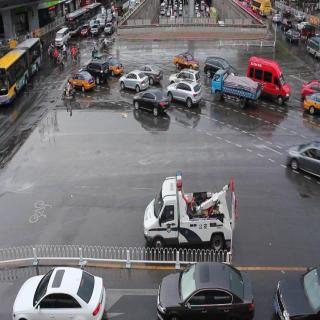BigCar: (2, 38, 42, 107), (211, 65, 260, 110)
Car: (142, 177, 236, 252), (157, 266, 254, 320), (14, 269, 102, 320), (274, 269, 319, 320), (285, 124, 320, 189), (248, 54, 291, 103), (134, 85, 167, 119), (168, 78, 200, 106), (69, 68, 94, 94), (205, 53, 232, 76), (174, 49, 198, 72), (121, 69, 148, 88), (85, 62, 109, 81), (138, 61, 162, 80), (54, 26, 70, 46), (285, 28, 301, 42), (104, 20, 114, 37), (80, 22, 90, 38), (91, 24, 100, 34)
